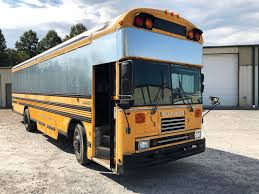bus: (11, 7, 207, 172)
